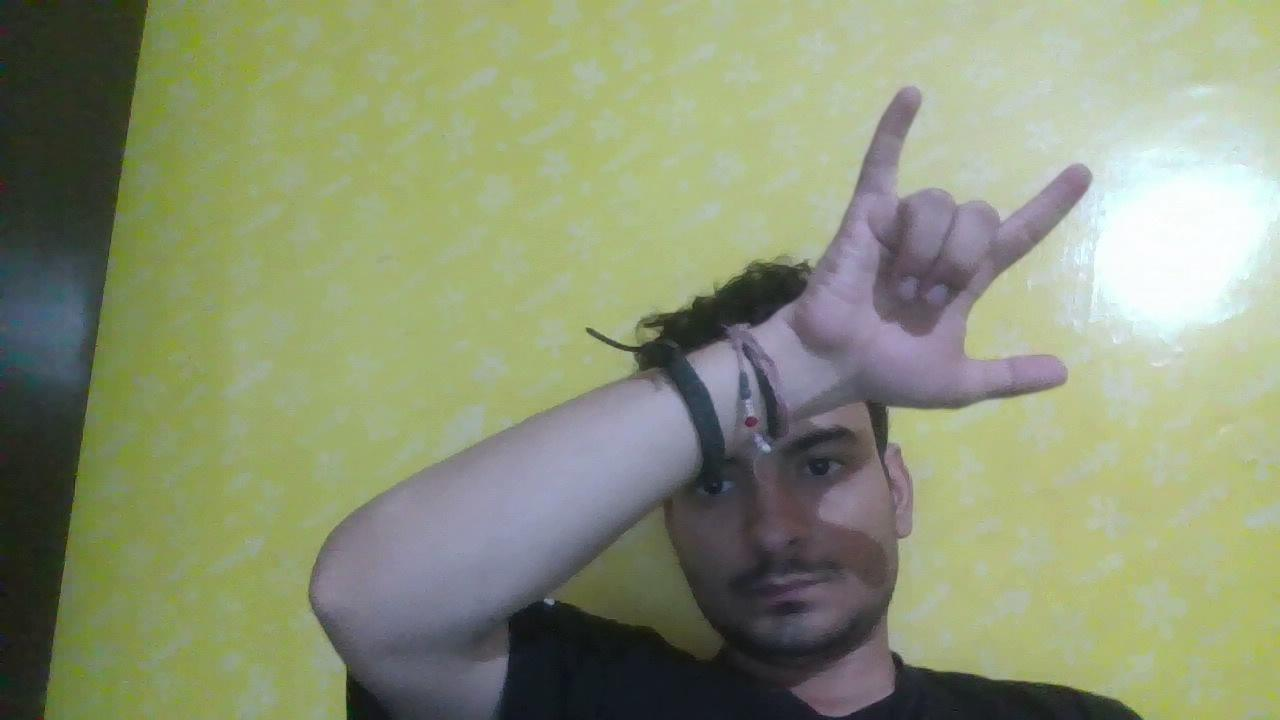Loveyou: (736, 40, 1162, 548)
